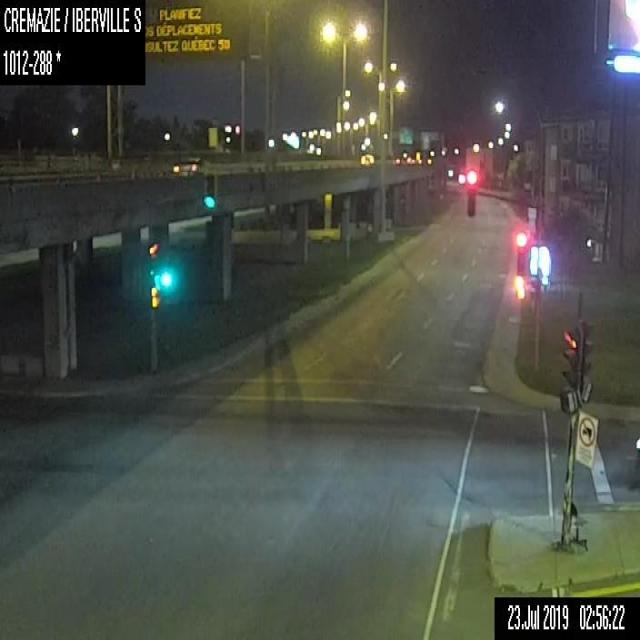vehicle: (172, 155, 210, 173), (396, 150, 410, 166), (360, 152, 375, 165)
